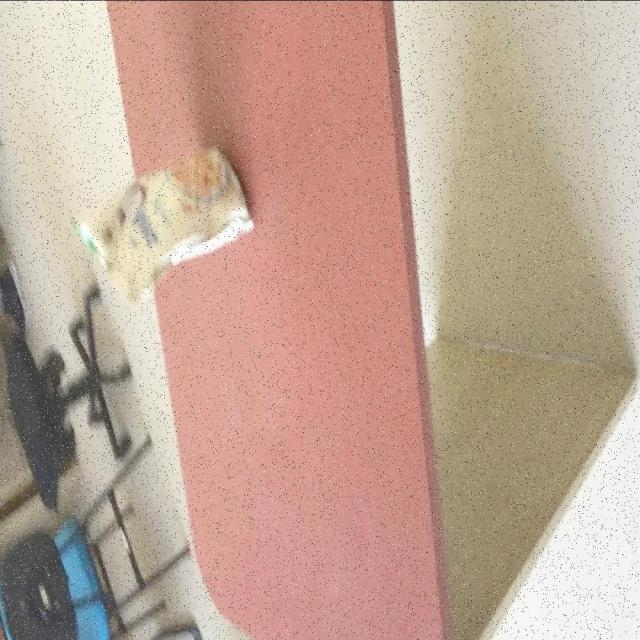CornFlakes: (75, 142, 253, 302)
